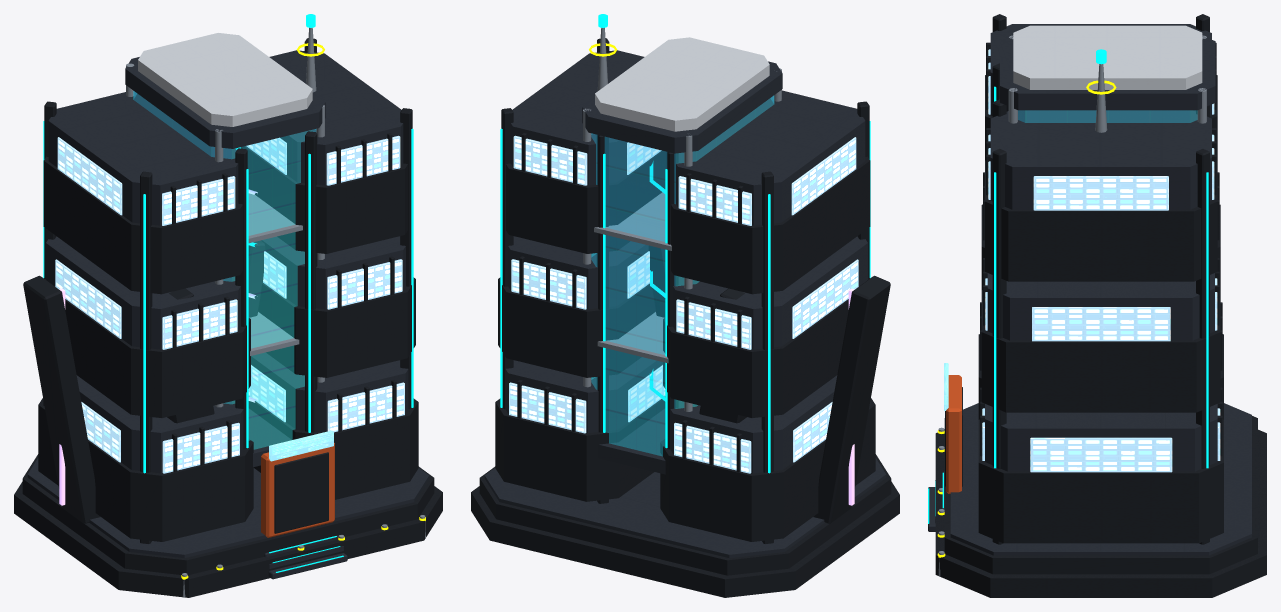
File: bldg_10_r1_03.glb
3 views of the same model, side by side, from view 1: azimuth 30°, elevation 25°; view 2: azimuth 150°, elevation 25°; view 3: azimuth 270°, elevation 25° (orthographic). The views are drawn at different scales.
Visible parts, largest first — view 1: Bldg10_C03_gunmetal, Bldg10_C03_carbon_slate, Bldg10_C03_window_lit, Bldg10_C03_glass_cyan, Bldg10_C03_aero_white, Bldg10_C03_steel_machined, Bldg10_C03_led_cyan, Bldg10_C03_accent_orange, Bldg10_C03_marquee; view 2: Bldg10_C03_gunmetal, Bldg10_C03_carbon_slate, Bldg10_C03_window_lit, Bldg10_C03_glass_cyan, Bldg10_C03_aero_white, Bldg10_C03_steel_machined, Bldg10_C03_led_cyan; view 3: Bldg10_C03_gunmetal, Bldg10_C03_carbon_slate, Bldg10_C03_window_lit, Bldg10_C03_aero_white, Bldg10_C03_glass_cyan, Bldg10_C03_led_cyan, Bldg10_C03_accent_orange, Bldg10_C03_steel_machined.
Part boxes in pixels (x1,y1,x2,y2): Bldg10_C03_gunmetal: (14,38,442,597); Bldg10_C03_carbon_slate: (27,50,429,579); Bldg10_C03_window_lit: (55,135,404,473); Bldg10_C03_glass_cyan: (133,91,316,449); Bldg10_C03_aero_white: (138,33,312,126); Bldg10_C03_steel_machined: (126,28,425,597); Bldg10_C03_led_cyan: (43,14,413,572); Bldg10_C03_accent_orange: (261,443,334,537); Bldg10_C03_marquee: (269,430,333,461); Bldg10_C03_gunmetal: (471,38,899,597); Bldg10_C03_carbon_slate: (484,50,886,558); Bldg10_C03_window_lit: (509,135,858,473); Bldg10_C03_glass_cyan: (591,95,774,456); Bldg10_C03_aero_white: (595,37,769,131); Bldg10_C03_steel_machined: (583,28,781,411); Bldg10_C03_led_cyan: (500,14,870,473); Bldg10_C03_gunmetal: (935,14,1266,597); Bldg10_C03_carbon_slate: (928,24,1251,555); Bldg10_C03_window_lit: (982,49,1220,472); Bldg10_C03_aero_white: (1013,25,1202,89); Bldg10_C03_glass_cyan: (1018,110,1197,122); Bldg10_C03_led_cyan: (928,49,1208,523); Bldg10_C03_accent_orange: (946,375,961,493); Bldg10_C03_steel_machined: (938,35,1206,576).
Bounding box in the file's own units: 13.21 × 16.82 × 10.23.
Materials: 11 (11 with a texture image).
